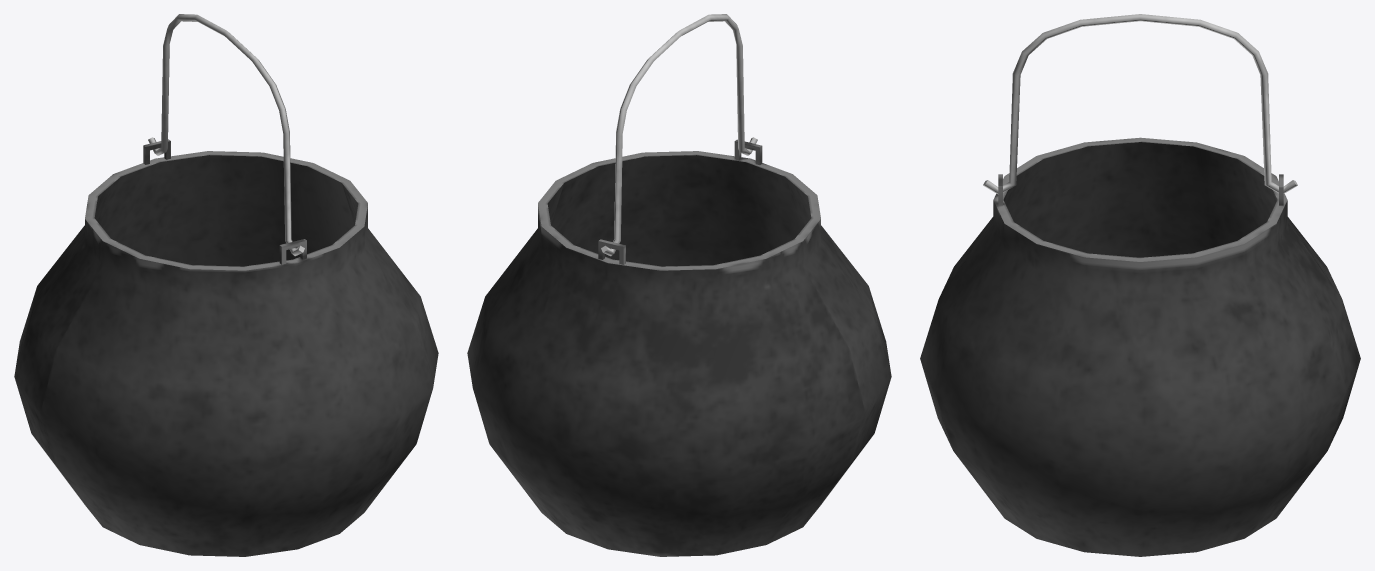
Rendered from BOWLER_1_low.fbx.
The picture shows the model from 3 angles, left to right: view 1: azimuth 30°, elevation 25°; view 2: azimuth 150°, elevation 25°; view 3: azimuth 270°, elevation 25°; orthographic projection. The views are drawn at different scales.
Visible parts, largest first — view 1: BOWLER_1_low; view 2: BOWLER_1_low; view 3: BOWLER_1_low.
Part boxes in pixels (x1=…): BOWLER_1_low: x1=14, y1=14, x2=438, y2=556; BOWLER_1_low: x1=467, y1=14, x2=891, y2=556; BOWLER_1_low: x1=920, y1=14, x2=1360, y2=556.
Bounding box in the file's own units: 39.86 × 47.97 × 39.86.
